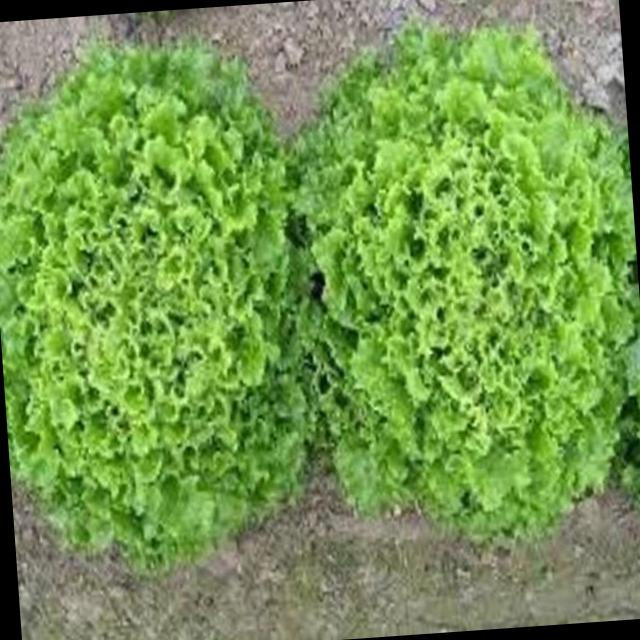Lettuce-Ready-to-Harvest: (289, 25, 633, 530), (0, 46, 308, 563)
